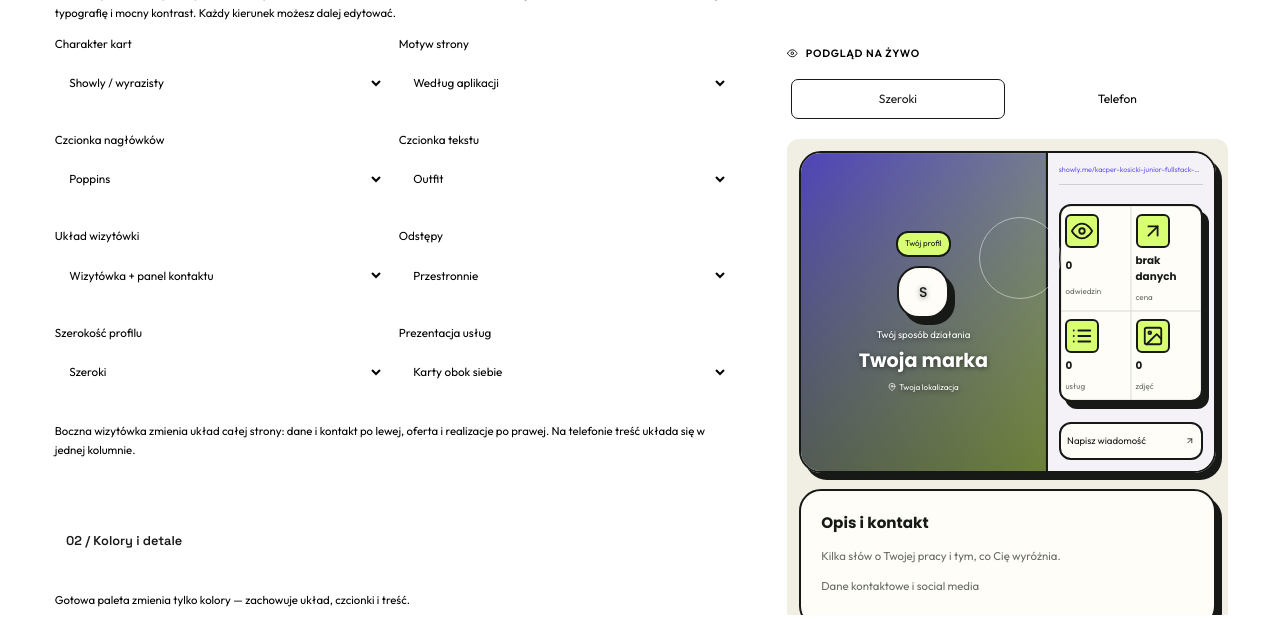
color palettes preserve layout, fonts and draft content
(page scrolled)
Select "Szeroka wizytówka" in the dropdown labelled "Układ wizytówki". click: (220, 275)
box: [55, 253, 384, 297]
(page scrolled)
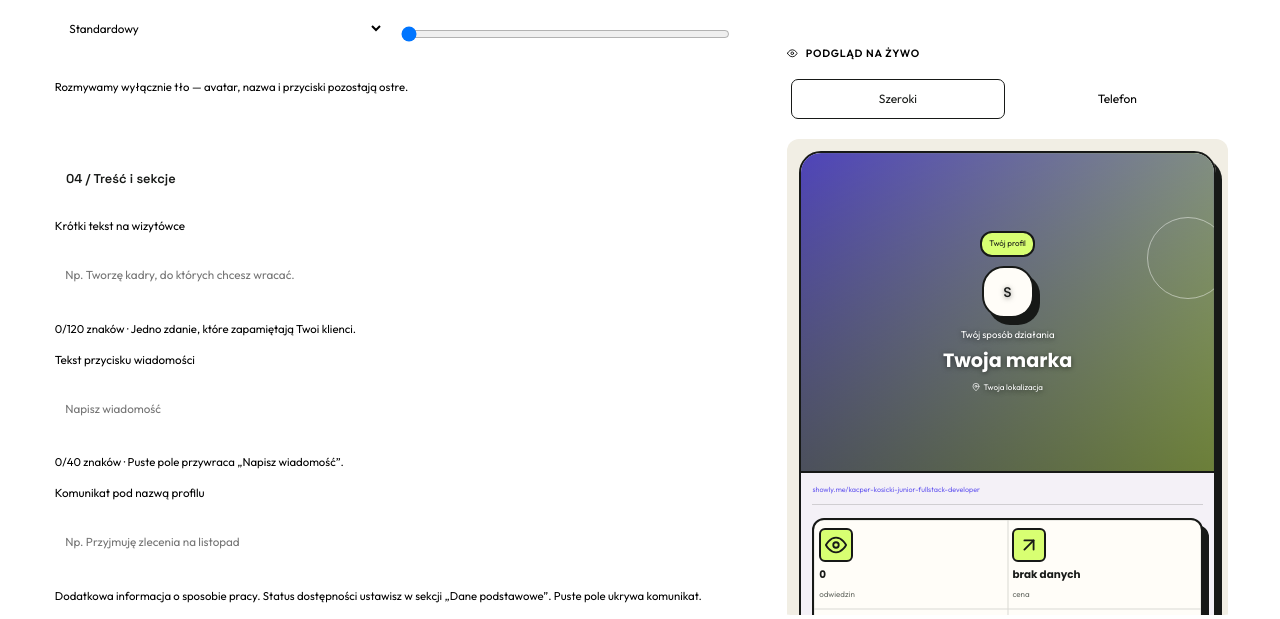
Type "Moja marka " into the field labelled "Krótki tekst na wizytówce". click: (402, 276)
box: [55, 243, 749, 308]
(page scrolled)
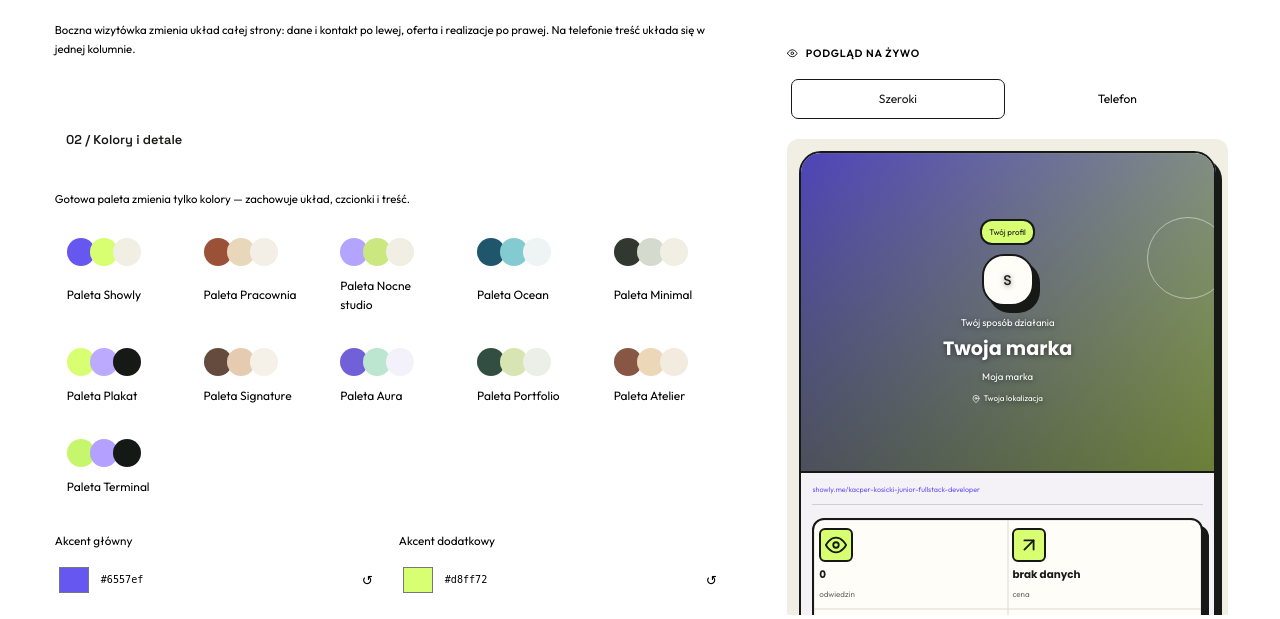
Click the button "Paleta Ocean". click: (528, 276)
box: [465, 226, 592, 326]
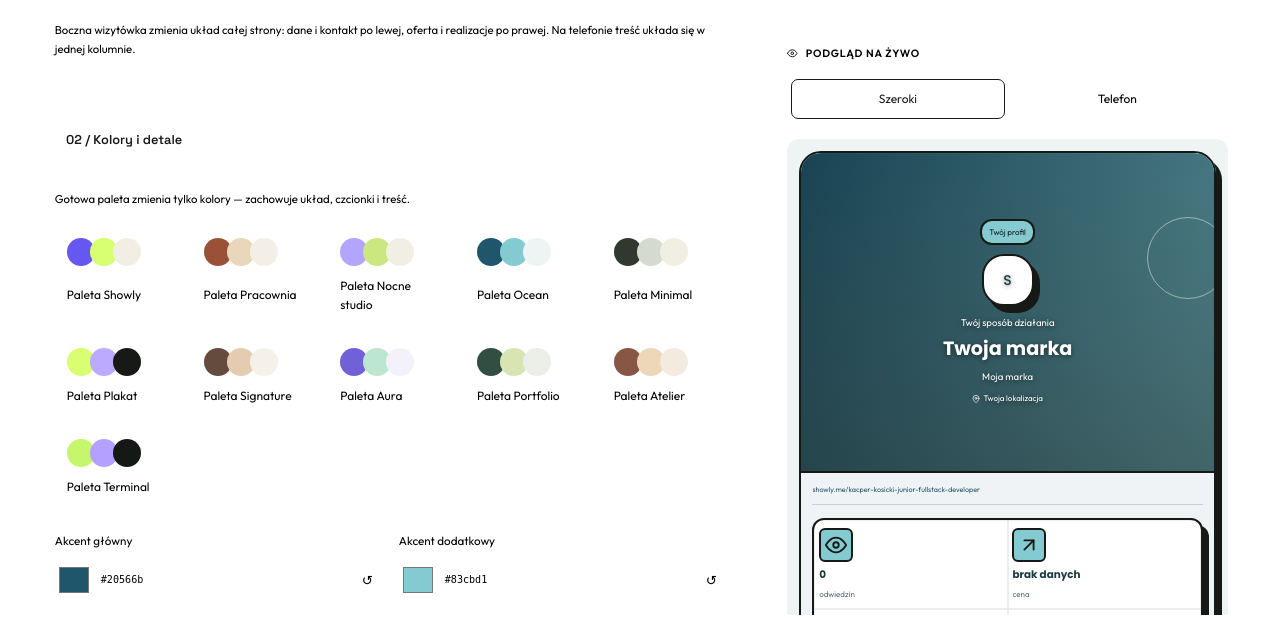
Expected: the text "Moja marka" is shown, [982, 369, 1033, 383]
Expected: the text "#20566b" is shown, [101, 574, 143, 585]
